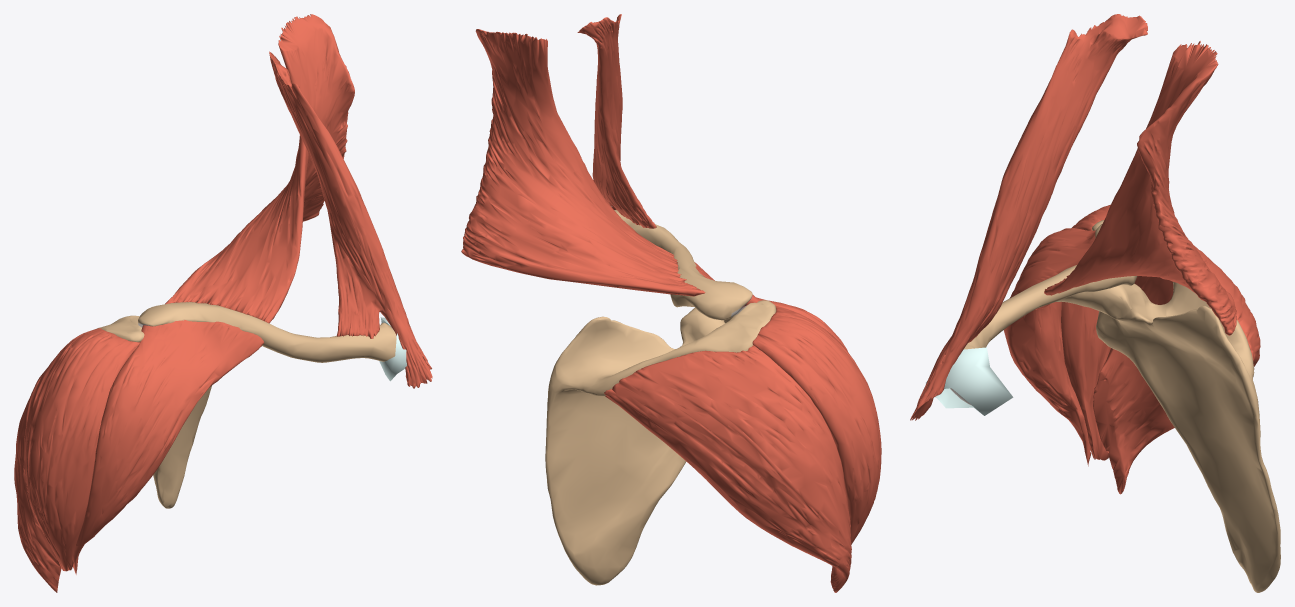
Rendered from shoulder_neck.glb.
3 views of the same model, side by side, from view 1: azimuth 30°, elevation 25°; view 2: azimuth 150°, elevation 25°; view 3: azimuth 270°, elevation 25° (orthographic). The views are drawn at different scales.
Parts seen in each view (by area): view 1: muscle_deltoid_anterior, muscle_trapezius_upper, muscle_deltoid_lateral, muscle_sternocleidomastoid, bone_clavicle, bone_scapula, muscle_deltoid_posterior, joint_sternoclavicular; view 2: muscle_deltoid_posterior, muscle_trapezius_upper, bone_scapula, muscle_deltoid_lateral, muscle_sternocleidomastoid, bone_clavicle, muscle_deltoid_anterior; view 3: bone_scapula, muscle_sternocleidomastoid, muscle_trapezius_upper, muscle_deltoid_posterior, muscle_deltoid_anterior, muscle_deltoid_lateral, joint_sternoclavicular, bone_clavicle.
Boxes of the visible parts, x1,y1,x2,y2 form: muscle_deltoid_anterior: [73, 320, 263, 574]; muscle_trapezius_upper: [165, 14, 354, 323]; muscle_deltoid_lateral: [24, 328, 139, 571]; muscle_sternocleidomastoid: [269, 51, 432, 388]; bone_clavicle: [138, 302, 396, 362]; bone_scapula: [97, 315, 211, 508]; muscle_deltoid_posterior: [14, 367, 61, 592]; joint_sternoclavicular: [379, 317, 406, 381]; muscle_deltoid_posterior: [604, 345, 851, 592]; muscle_trapezius_upper: [461, 29, 705, 296]; bone_scapula: [545, 300, 776, 585]; muscle_deltoid_lateral: [752, 305, 881, 544]; muscle_sternocleidomastoid: [577, 14, 656, 228]; bone_clavicle: [614, 210, 752, 320]; muscle_deltoid_anterior: [694, 262, 847, 351]; bone_scapula: [1056, 220, 1280, 592]; muscle_sternocleidomastoid: [910, 14, 1147, 420]; muscle_trapezius_upper: [1044, 41, 1236, 335]; muscle_deltoid_posterior: [1093, 245, 1260, 494]; muscle_deltoid_anterior: [1004, 228, 1095, 466]; muscle_deltoid_lateral: [1061, 204, 1110, 460]; joint_sternoclavicular: [926, 347, 1013, 415]; bone_clavicle: [950, 224, 1137, 405].
Bounding box in the file's own units: 0.2388 × 0.3247 × 0.1772.
